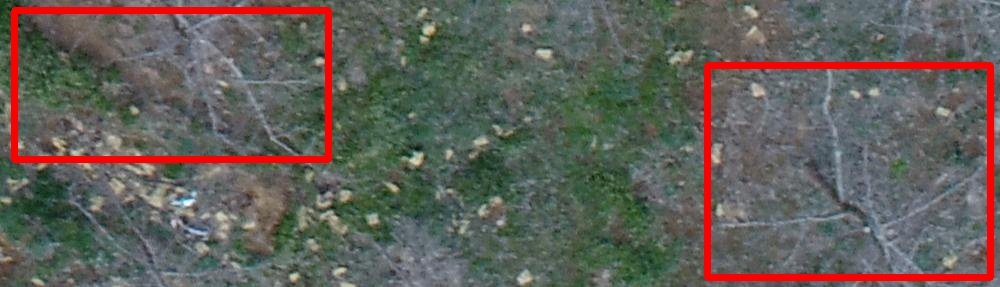apple: (707, 65, 990, 277), (14, 10, 328, 159)
